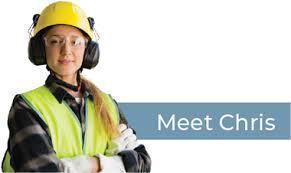helmet: (33, 0, 93, 38)
